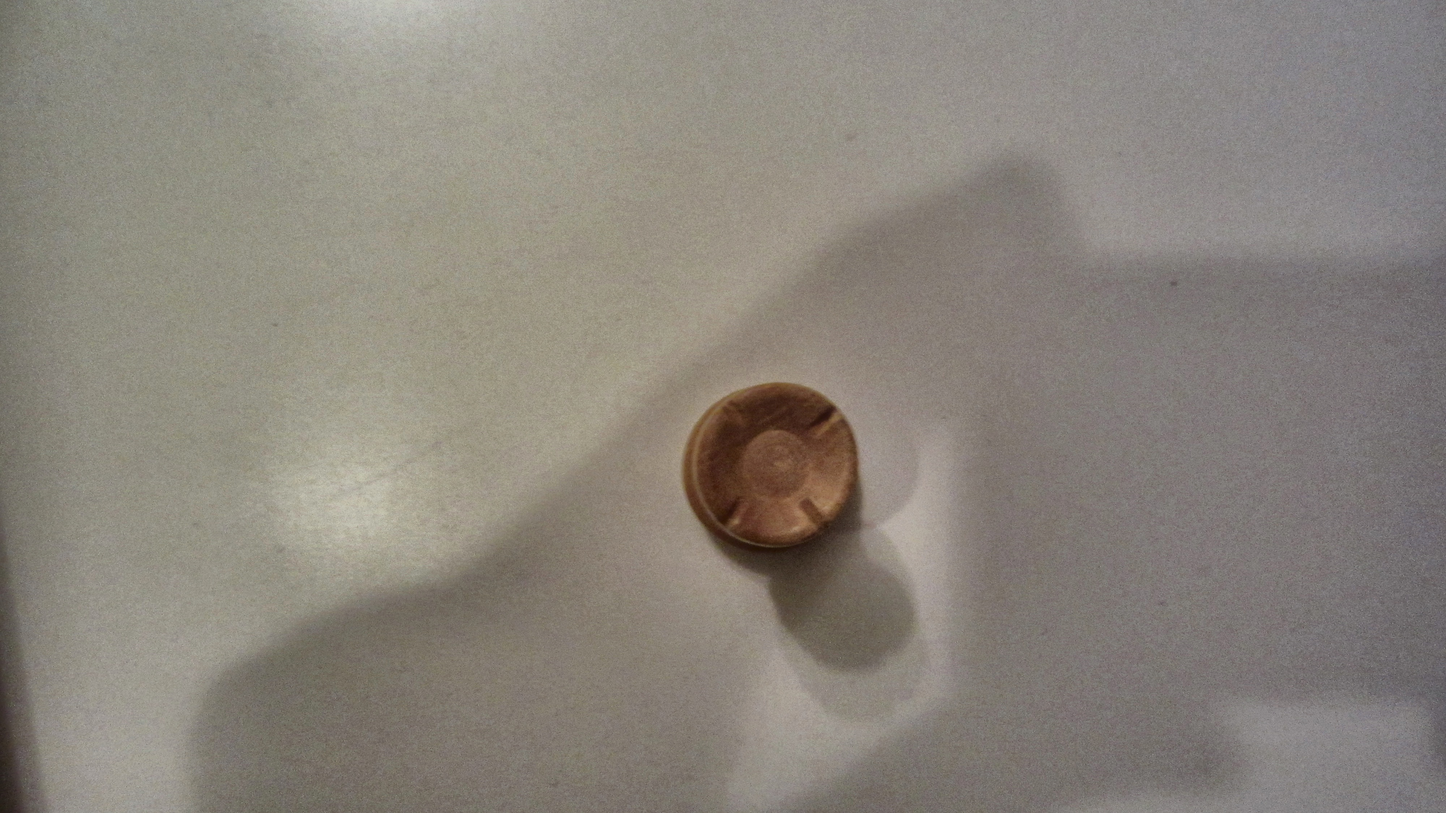white-rook: (680, 380, 861, 554)
